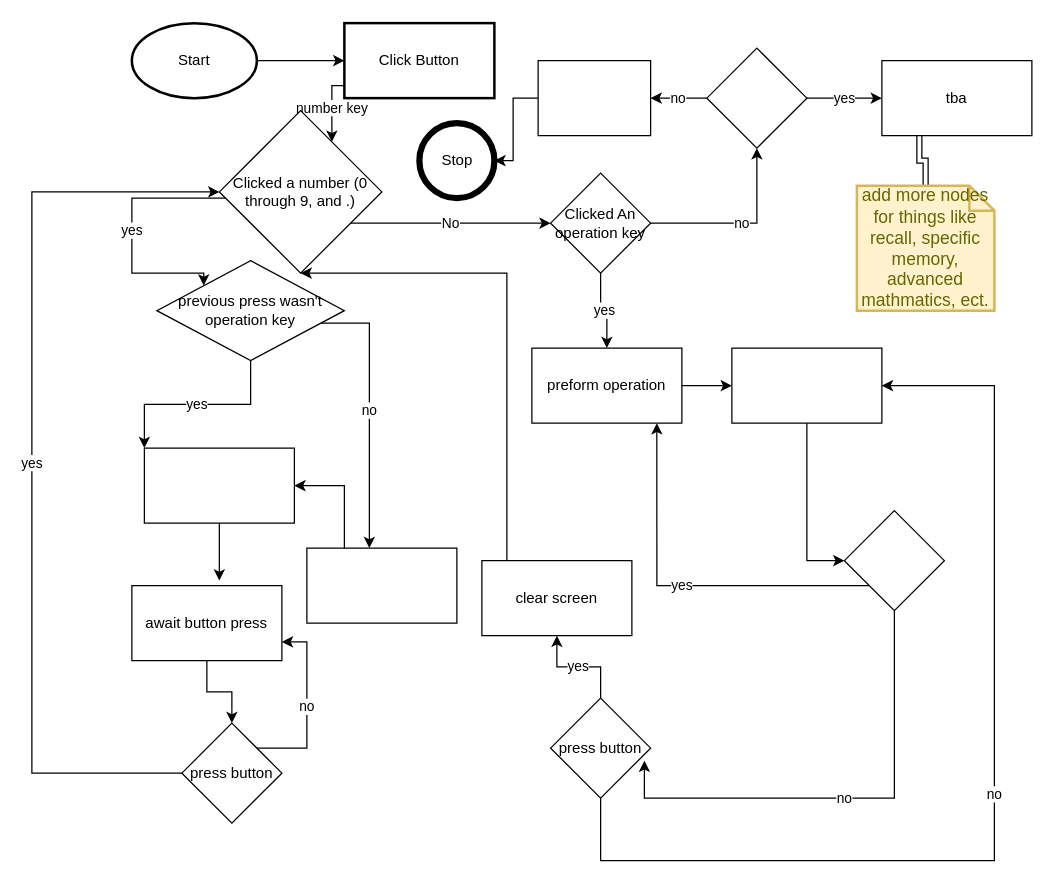
Some shapes in this 1054 by 893 pixel diagram are drawn without their labels. Here are the shapes that lost their labels. From the top down, the centre of each, then its label:
the point at 594,97: show "error, button doesn't exist"
the point at 756,97: Clicked a function key
the point at 806,385: Display Result
the point at 218,485: put pressed number at end of number (join with last part)
the point at 893,560: was equals key?
the point at 381,585: remember current value (displayed value)
